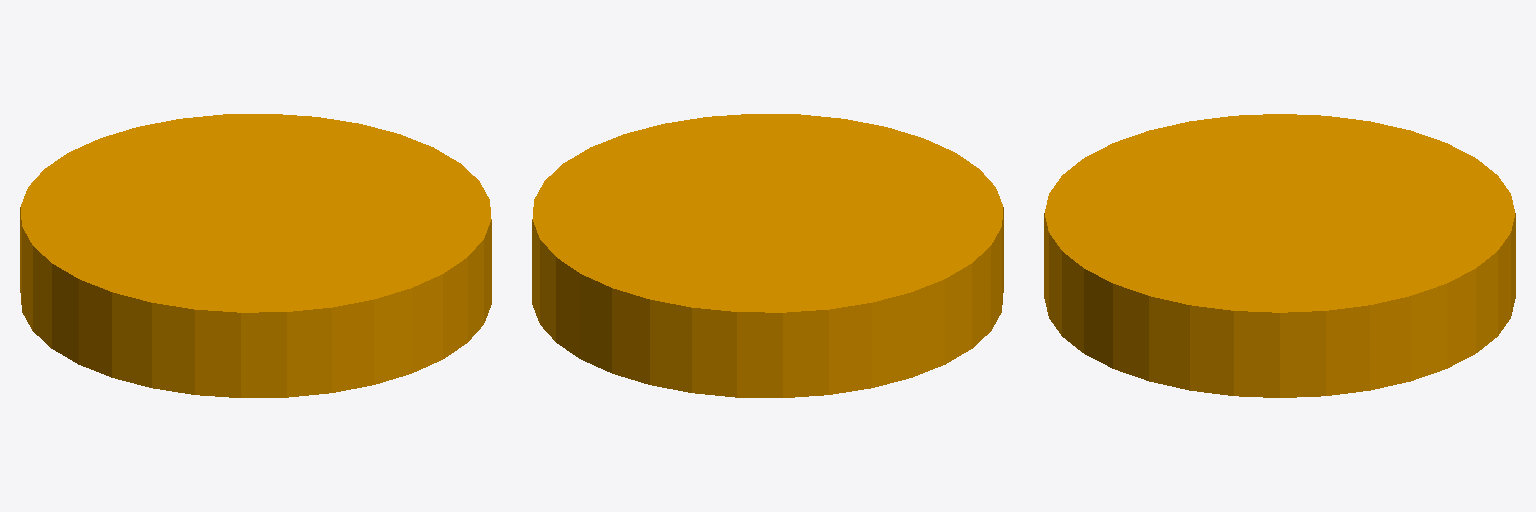
URDF robot description (mon_premier_robot):
<?xml version ="1.0"?>
<robot name="mon_premier_robot">
    <link name="base_link">
        <visual>
            <geometry>
                <!-- TACHE 01 : AJOUTER ICI UNE CYLINDRE DE DIAMETRE 50cm ET DE HAUTEUR 10cm -->
                <cylinder radius="0.25" length="0.10"/>


                
                <!-- FIN DE LA TACHE 01-->
            </geometry>
        </visual>
    </link>
</robot>

--- Facts derived from the render (not from the file) ---
The picture shows the robot from 3 angles, left to right: view 1: azimuth 30°, elevation 25°; view 2: azimuth 150°, elevation 25°; view 3: azimuth 270°, elevation 25°; orthographic projection.
Model mon_premier_robot with 1 links and 0 joints (none), rooted at base_link, posed every joint at zero.
Links seen in each view (by area): view 1: base_link; view 2: base_link; view 3: base_link.
Boxes of the visible links, x1,y1,x2,y2 form: base_link: [20, 114, 491, 397]; base_link: [532, 114, 1003, 397]; base_link: [1044, 114, 1515, 397].
Size in the robot's own frame: 0.5 by 0.5 by 0.1 metres.
Geometry: primitives only (box / cylinder / sphere), no mesh files.